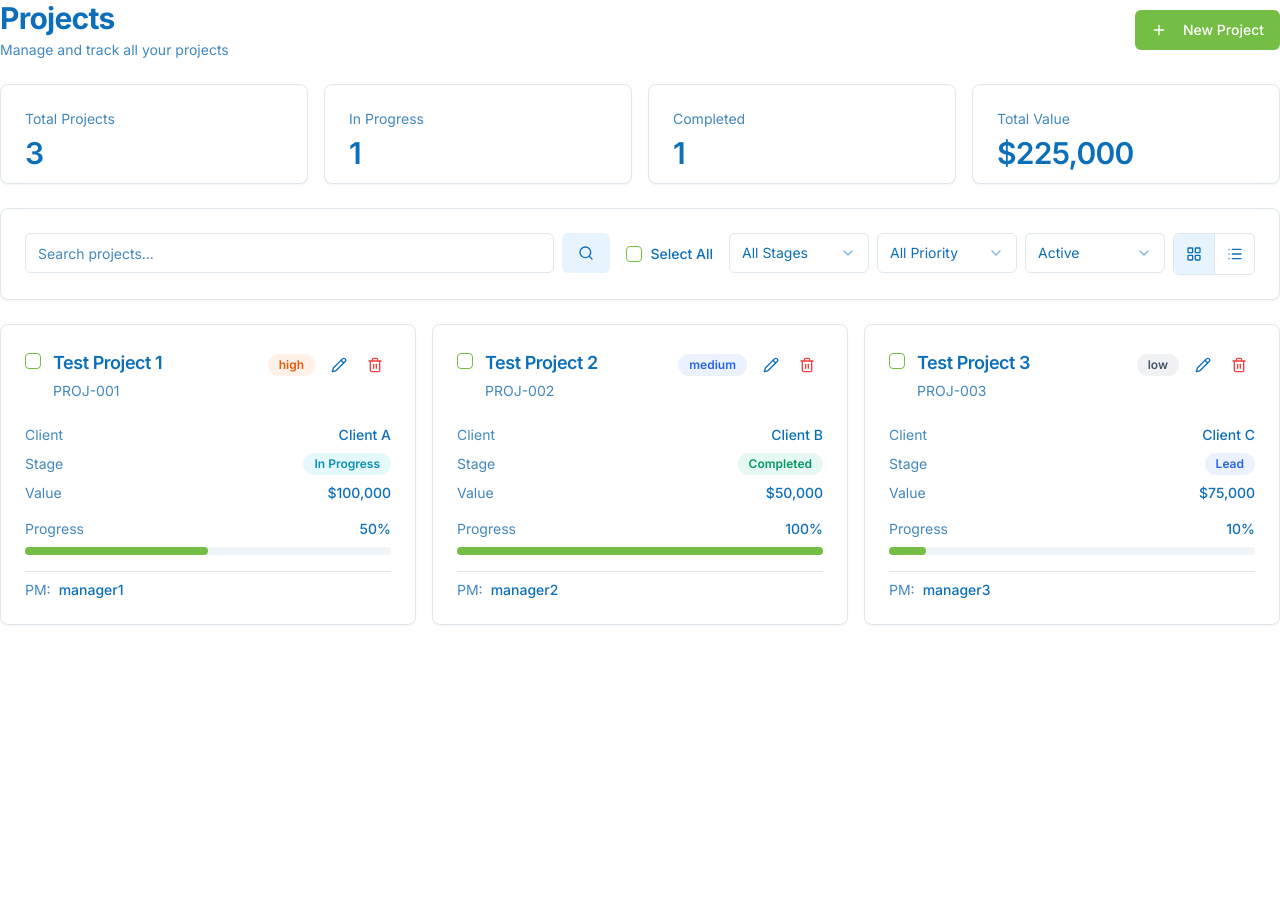
Test: ProjectsPage › Bulk Operations › shows bulk delete dialog when multiple projects selected
The width and height of the screenshot is (1280, 900).
Expected: the text "Test Project 1" is shown, top-left (53, 352), bottom-right (162, 373)
// Select all projects
Click the checkbox named "Select All" next to "Select All" at (634, 254), box top-left (626, 246), bottom-right (642, 262)
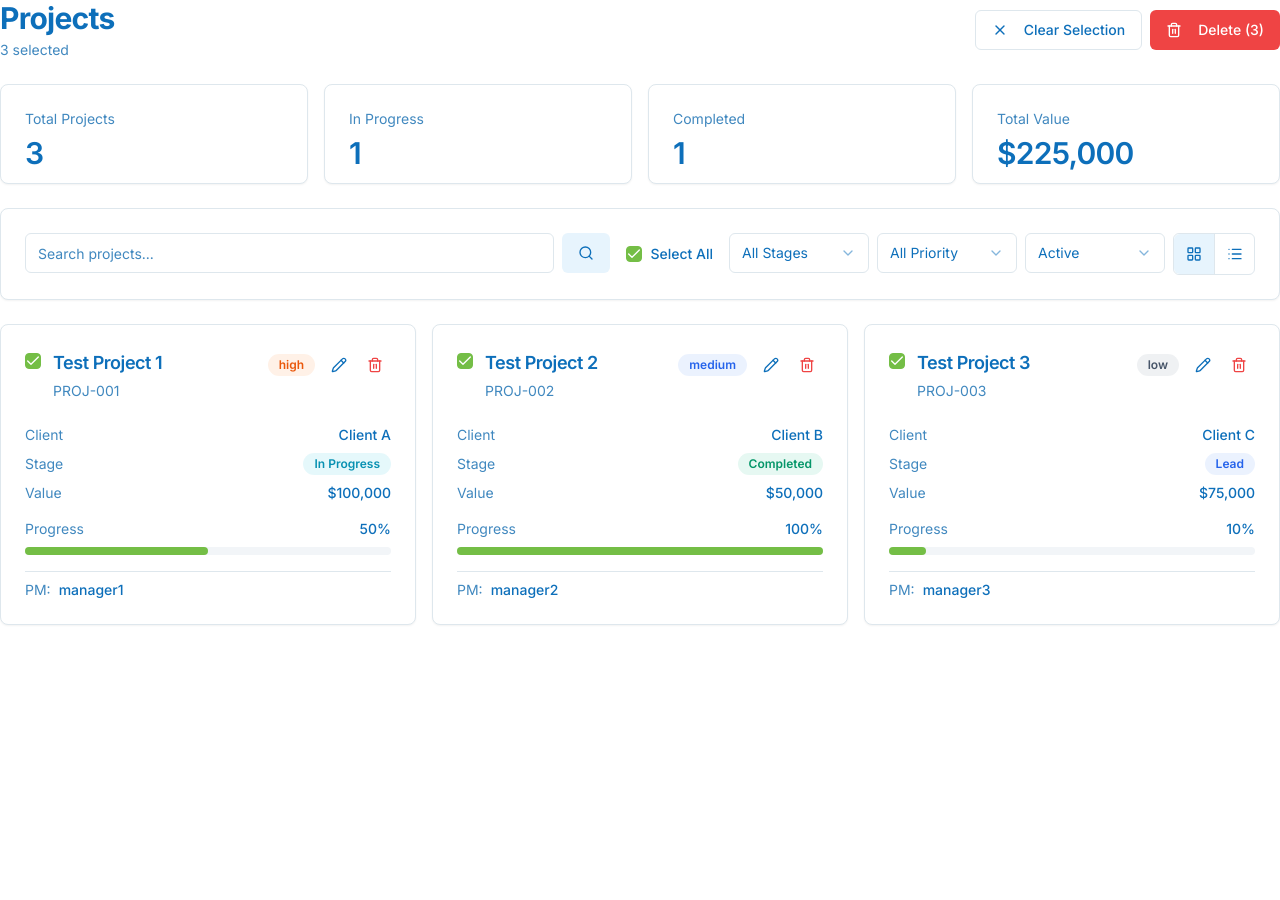
// Click bulk delete button
Click the button "Delete (3)" at (1215, 30), box top-left (1150, 10), bottom-right (1279, 50)
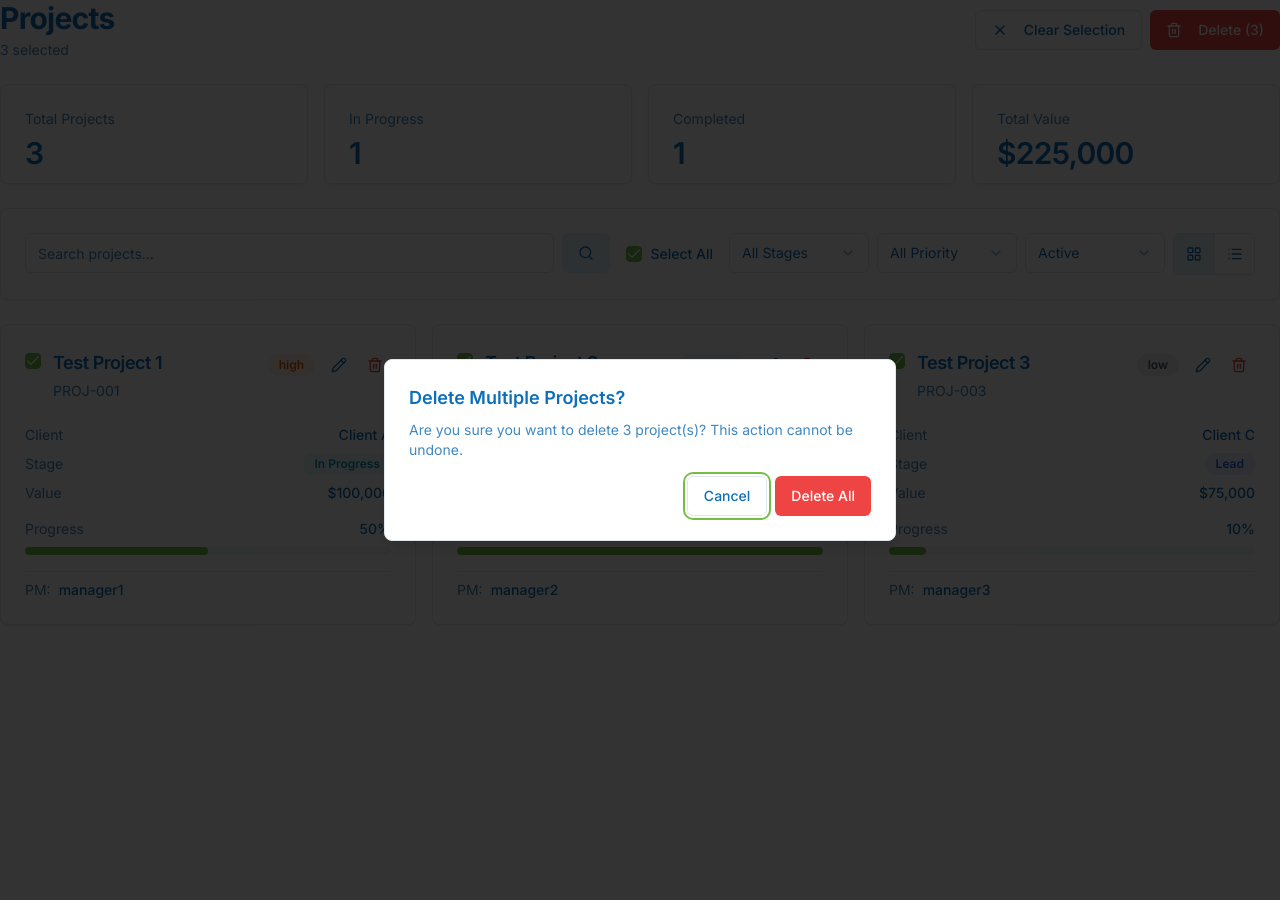
Expected: the heading "Delete Multiple Projects?" is shown, top-left (409, 387), bottom-right (625, 408)
